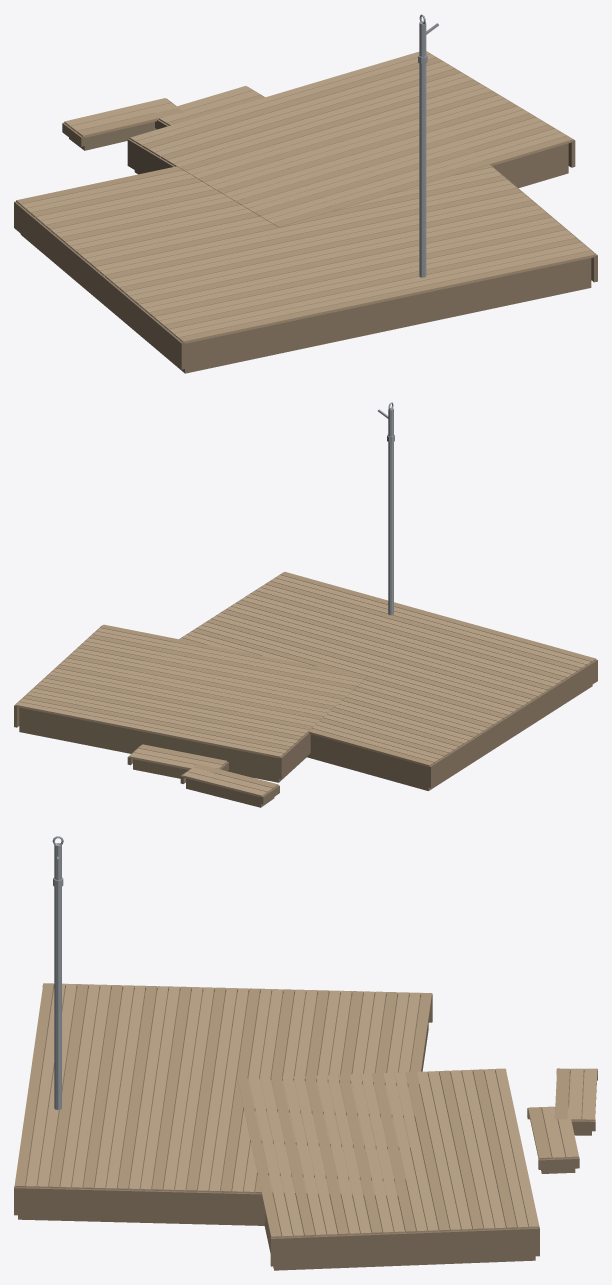
File: pod_deck.glb
3 views of the same model, one above another, from view 1: azimuth 30°, elevation 25°; view 2: azimuth 150°, elevation 25°; view 3: azimuth 270°, elevation 25° (orthographic). The views are drawn at different scales.
Visible parts, largest first — view 1: cp_deck_mesh, sk_lightpole_mesh; view 2: cp_deck_mesh, sk_lightpole_mesh; view 3: cp_deck_mesh, sk_lightpole_mesh.
Boxes of the visible parts, x1,y1,x2,y2 form: cp_deck_mesh: [14, 51, 597, 373]; sk_lightpole_mesh: [418, 14, 438, 277]; cp_deck_mesh: [14, 572, 597, 807]; sk_lightpole_mesh: [378, 402, 394, 615]; cp_deck_mesh: [14, 983, 597, 1270]; sk_lightpole_mesh: [52, 836, 63, 1112].
Size of the model in its own units: 8.06 by 4.52 by 7.78.
